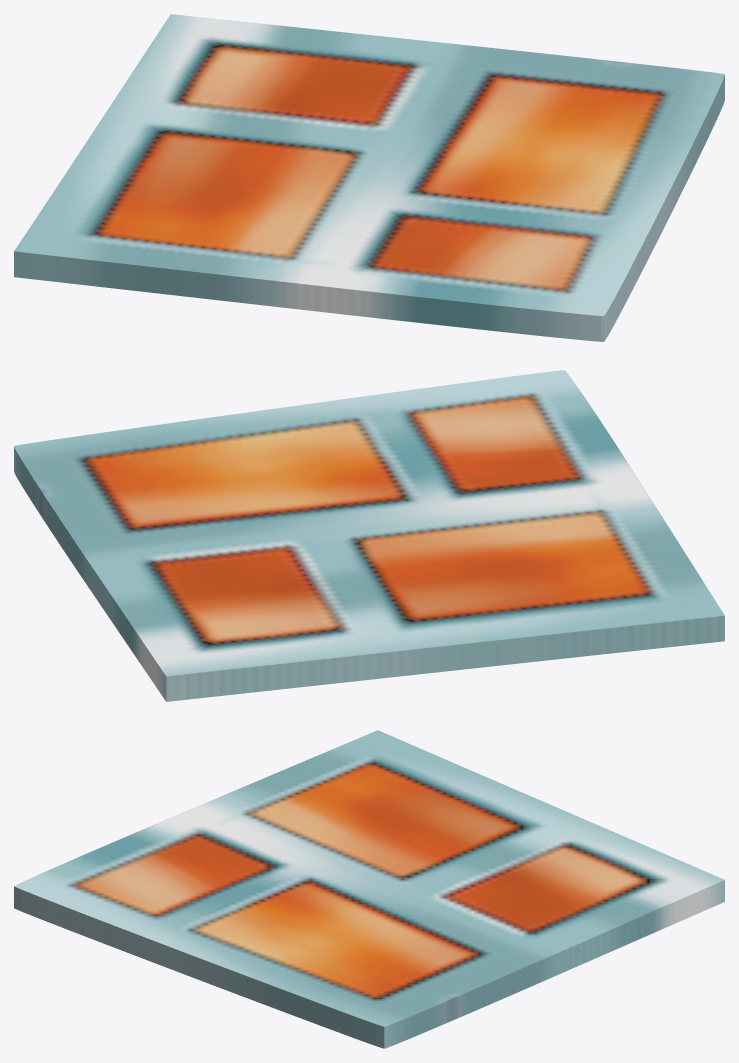
3 renders of one model, top to bottom at view 1: azimuth 30°, elevation 25°; view 2: azimuth 150°, elevation 25°; view 3: azimuth 270°, elevation 25°, orthographic. The views are drawn at different scales.
Visible parts, largest first — view 1: path1587; view 2: path1587; view 3: path1587.
Boxes of the visible parts, x1=… form: path1587: x1=14, y1=14, x2=724, y2=341; path1587: x1=14, y1=370, x2=724, y2=701; path1587: x1=14, y1=730, x2=724, y2=1048.
Bounding box in the file's own units: 86.9 × 3 × 87.99.
Materials: 1 (1 with a texture image).
